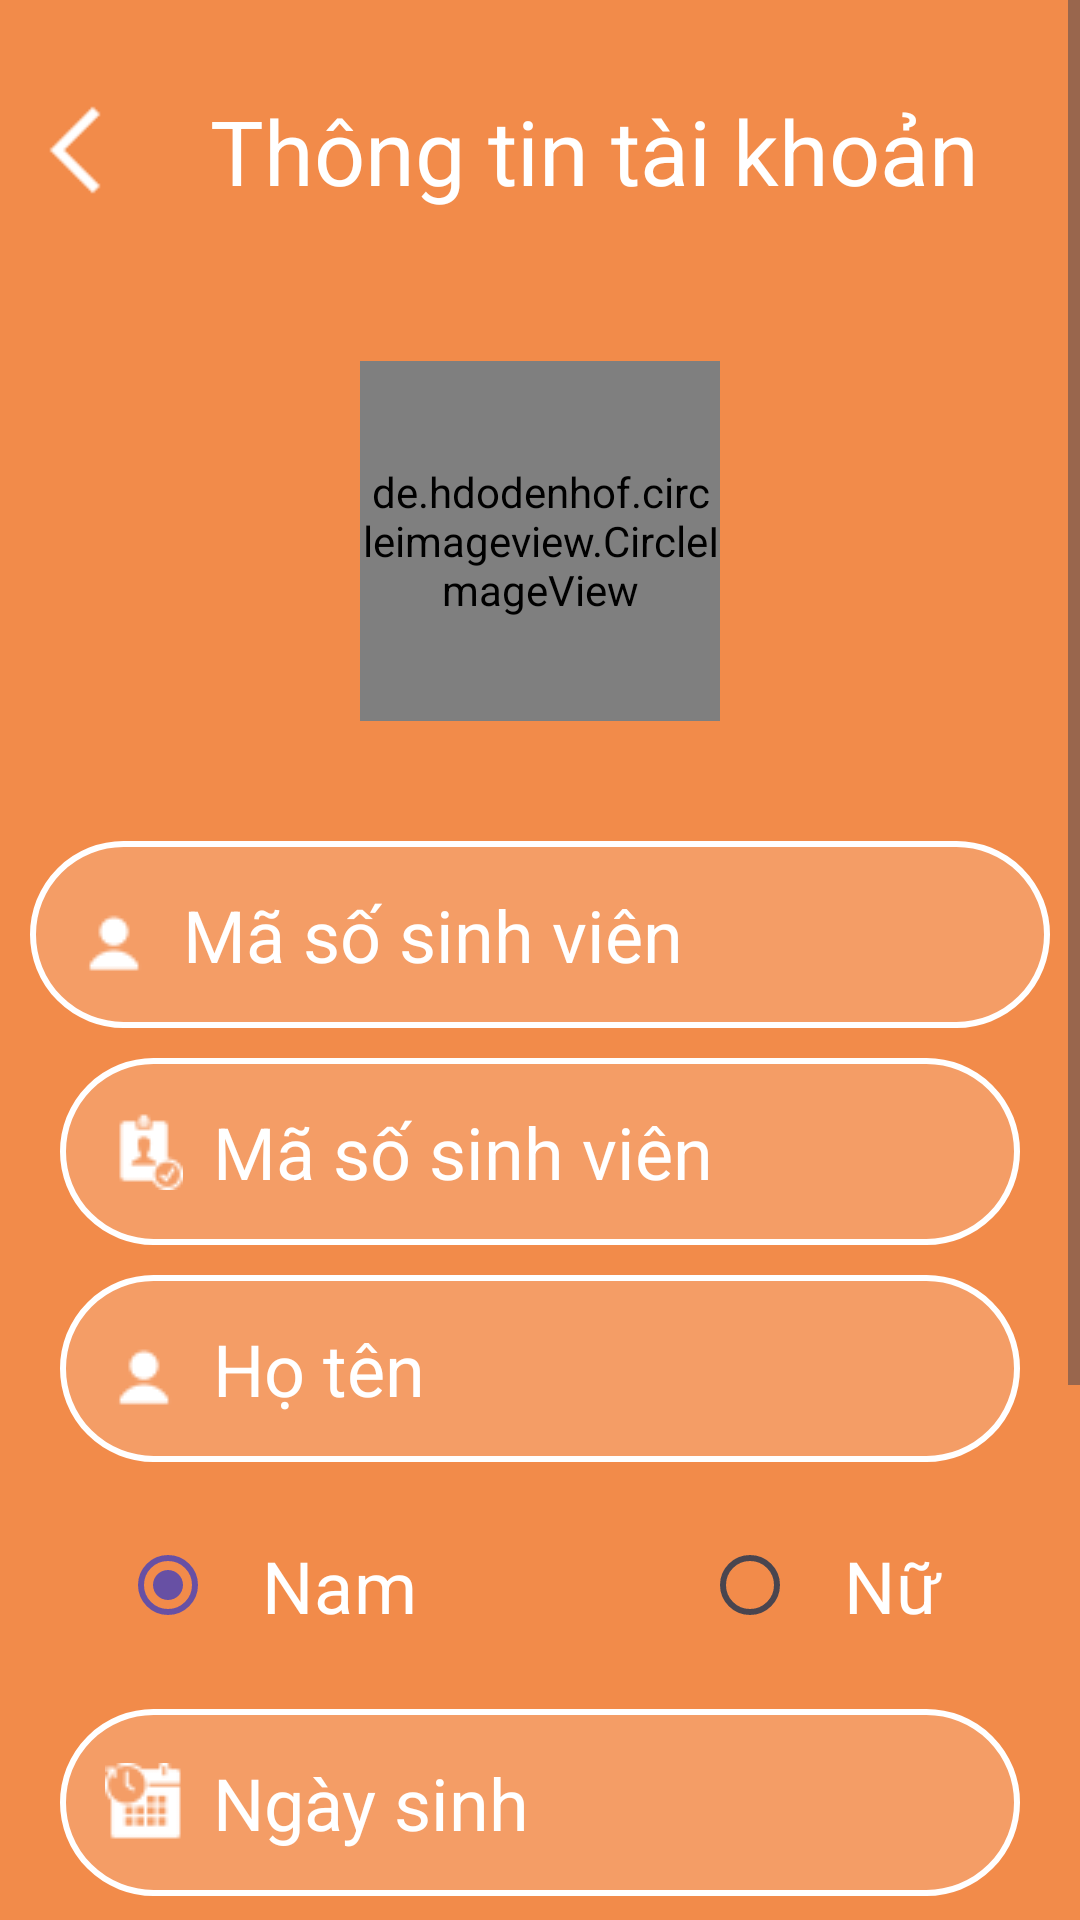

Point at icon controls on the screen. Image size 1080×1920, points as (x=x, y=y).
back: (x=75, y=150)
